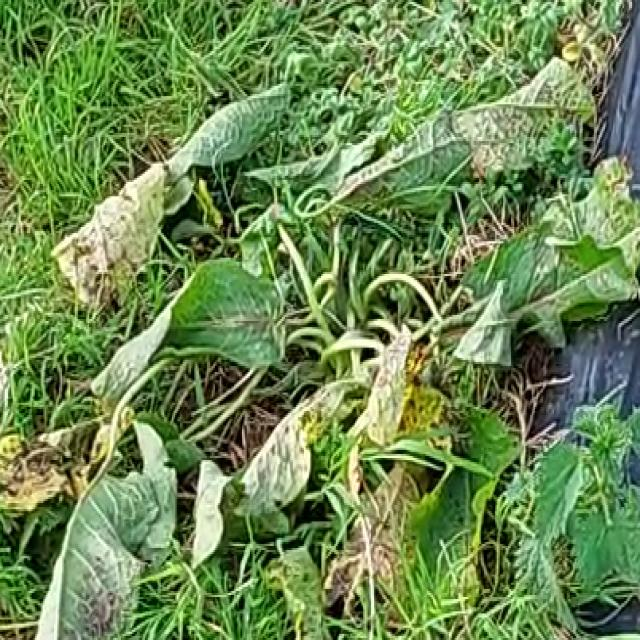organic waste: (38, 75, 622, 640)
